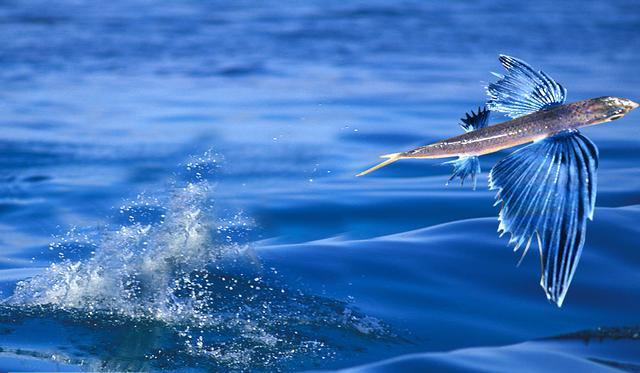Sirip Dada: (486, 127, 606, 315), (478, 50, 572, 122)
Sirip Ekor: (348, 144, 416, 192)
Sirip Perut: (436, 101, 494, 200)
